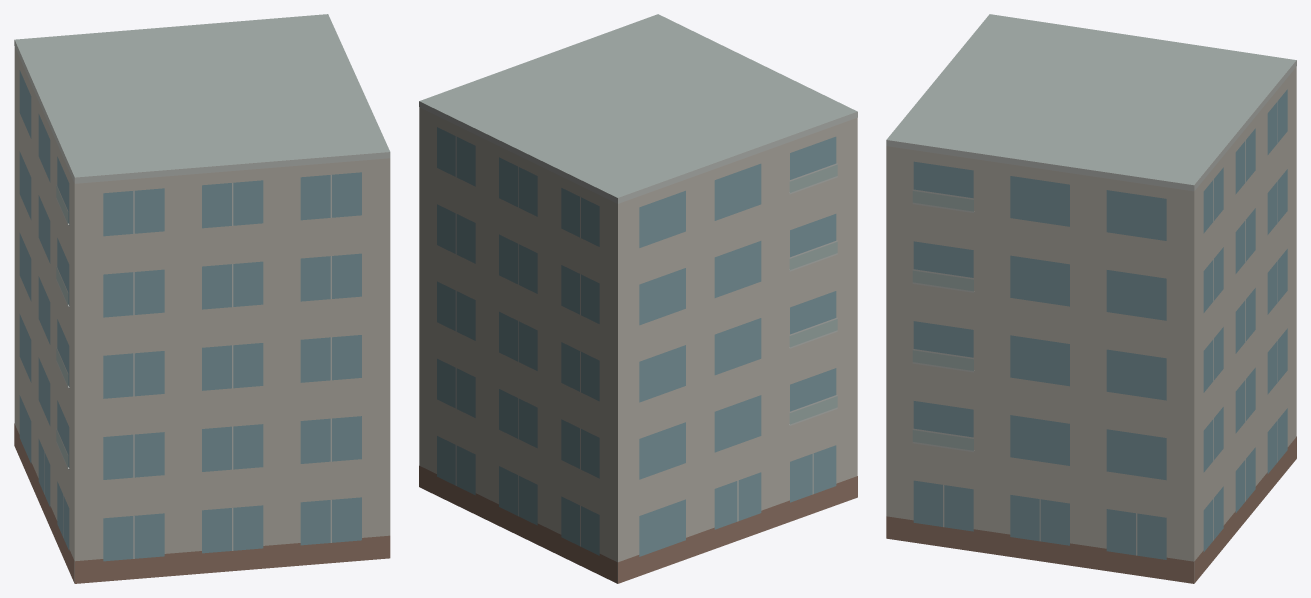
The model's file is survey-upis-32943288.glb.
The picture shows the model from 3 angles, left to right: view 1: azimuth 30°, elevation 25°; view 2: azimuth 150°, elevation 25°; view 3: azimuth 270°, elevation 25°; orthographic projection. The views are drawn at different scales.
Visible parts, largest first — view 1: survey-upis-32943288.tmp; view 2: survey-upis-32943288.tmp; view 3: survey-upis-32943288.tmp.
Boxes of the visible parts, box(x1,y1,x2,y2) form: survey-upis-32943288.tmp: box(14, 14, 390, 583); survey-upis-32943288.tmp: box(419, 14, 857, 583); survey-upis-32943288.tmp: box(886, 14, 1296, 583).
Bounding box in the file's own units: 14.57 × 15.8 × 14.75.
